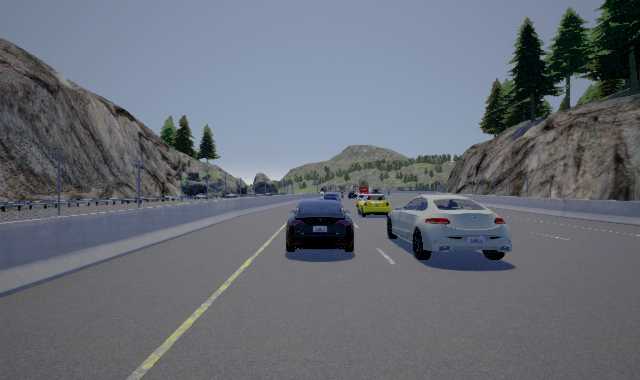vehicle: (387, 187, 512, 264), (286, 193, 354, 252), (357, 192, 391, 218)
